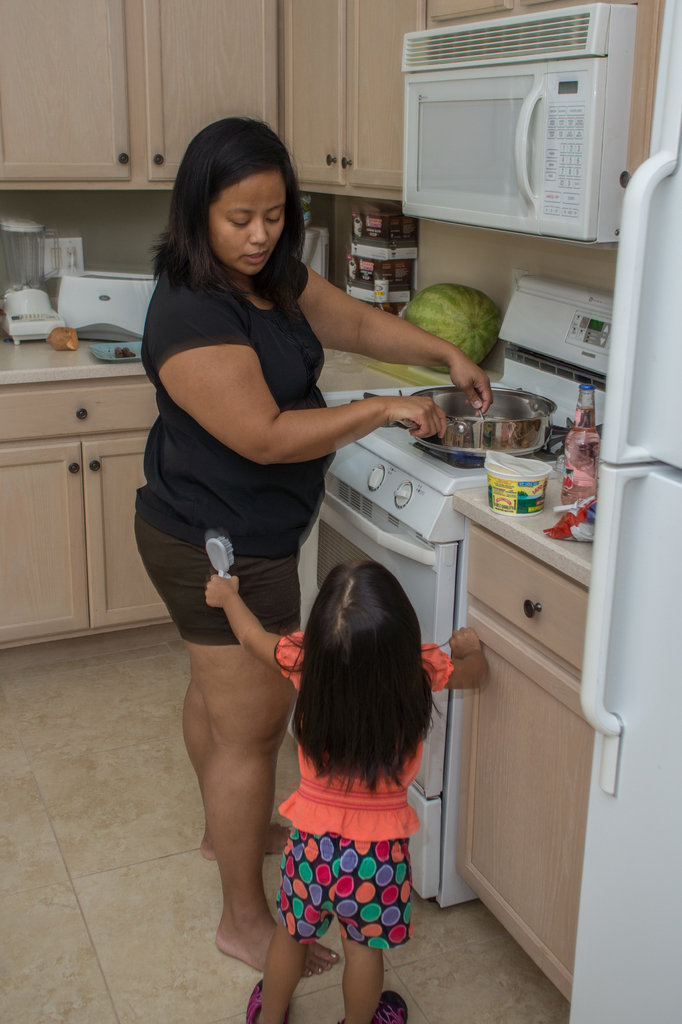cabinet door: (12, 24, 132, 181), (150, 30, 267, 181), (2, 449, 83, 612), (477, 555, 575, 656), (345, 17, 402, 188), (290, 13, 340, 182), (87, 442, 134, 610), (2, 393, 160, 431)
handle: (577, 472, 628, 801), (610, 148, 656, 468), (511, 88, 537, 212), (516, 593, 540, 630), (76, 401, 91, 434), (148, 149, 166, 172), (68, 451, 79, 485), (340, 148, 352, 178), (90, 451, 102, 479), (119, 145, 129, 175), (324, 146, 333, 172)
refrigerator door: (595, 488, 682, 1024), (631, 125, 682, 466)
